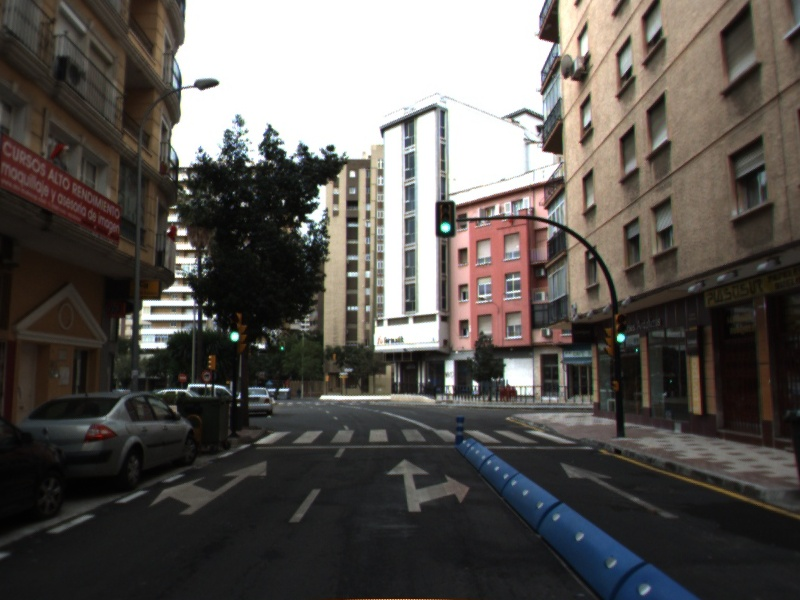STRAIGHT: (558, 460, 681, 520)
STRAIGHT_LEFT: (146, 458, 269, 517)
STRAIGHT_RIGHT: (384, 457, 473, 514)
